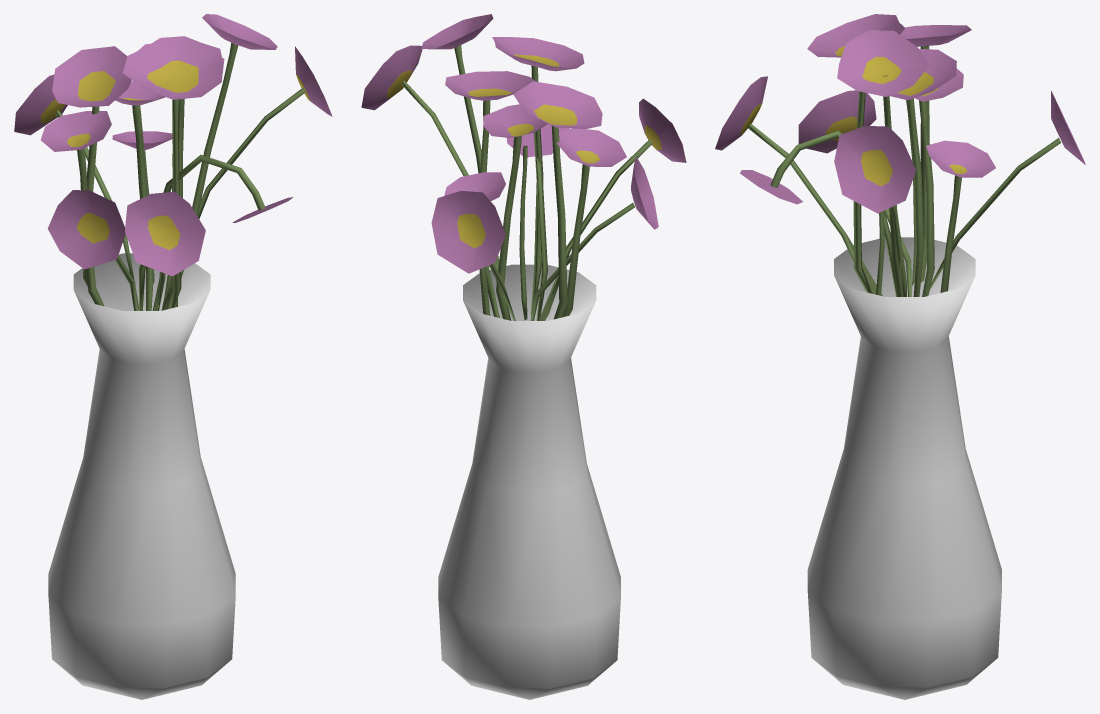
File: flower2.fbx
3 renders of one model, left to right at view 1: azimuth 30°, elevation 25°; view 2: azimuth 150°, elevation 25°; view 3: azimuth 270°, elevation 25°, orthographic. The views are drawn at different scales.
Visible parts, largest first — view 1: flower2; view 2: flower2; view 3: flower2.
Part boxes in pixels (<box>): flower2: <box>14,14,332,699</box>; flower2: <box>361,14,686,699</box>; flower2: <box>715,14,1085,699</box>.
Bounding box in the file's own units: 5.97 × 6.6 × 13.18.
